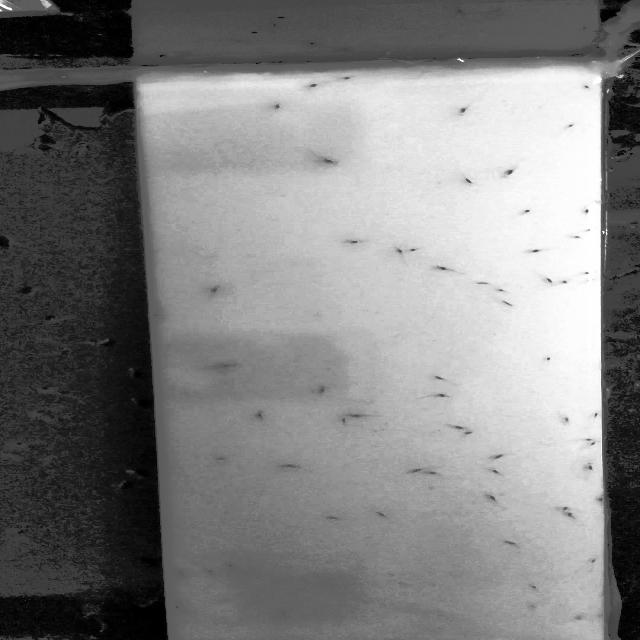shrimp: (310, 148, 344, 171), (496, 162, 524, 180), (298, 77, 324, 93), (269, 100, 295, 114), (497, 535, 518, 552), (576, 202, 598, 218), (522, 243, 545, 258), (430, 372, 453, 387), (145, 306, 164, 324), (576, 82, 604, 94), (514, 204, 535, 220), (406, 464, 429, 478), (388, 245, 408, 261), (340, 235, 364, 248), (498, 295, 518, 310), (482, 490, 502, 505), (459, 172, 480, 186), (496, 286, 520, 298), (581, 461, 603, 474), (562, 507, 581, 522), (570, 230, 589, 244), (435, 262, 454, 276), (570, 612, 589, 626), (250, 408, 270, 421), (340, 73, 361, 85), (429, 391, 450, 403), (583, 556, 604, 568), (464, 428, 484, 440), (566, 119, 584, 132), (313, 384, 331, 397), (374, 509, 392, 522), (595, 493, 611, 507), (279, 461, 301, 471), (540, 274, 558, 286), (212, 452, 230, 464), (526, 582, 544, 594), (587, 438, 605, 450), (170, 568, 191, 578), (166, 602, 187, 612), (586, 409, 602, 422), (404, 245, 424, 255), (334, 416, 354, 426), (528, 602, 548, 612), (488, 452, 510, 461), (210, 282, 222, 298), (324, 512, 342, 522), (451, 422, 466, 434), (556, 416, 574, 426), (456, 104, 472, 115), (542, 353, 558, 364), (202, 566, 218, 577), (219, 360, 232, 373), (563, 277, 577, 289), (349, 410, 364, 421), (559, 502, 572, 514), (471, 280, 490, 288), (424, 468, 440, 477), (278, 608, 291, 619), (581, 434, 595, 444), (580, 269, 597, 277), (226, 561, 240, 570), (490, 468, 502, 477)
